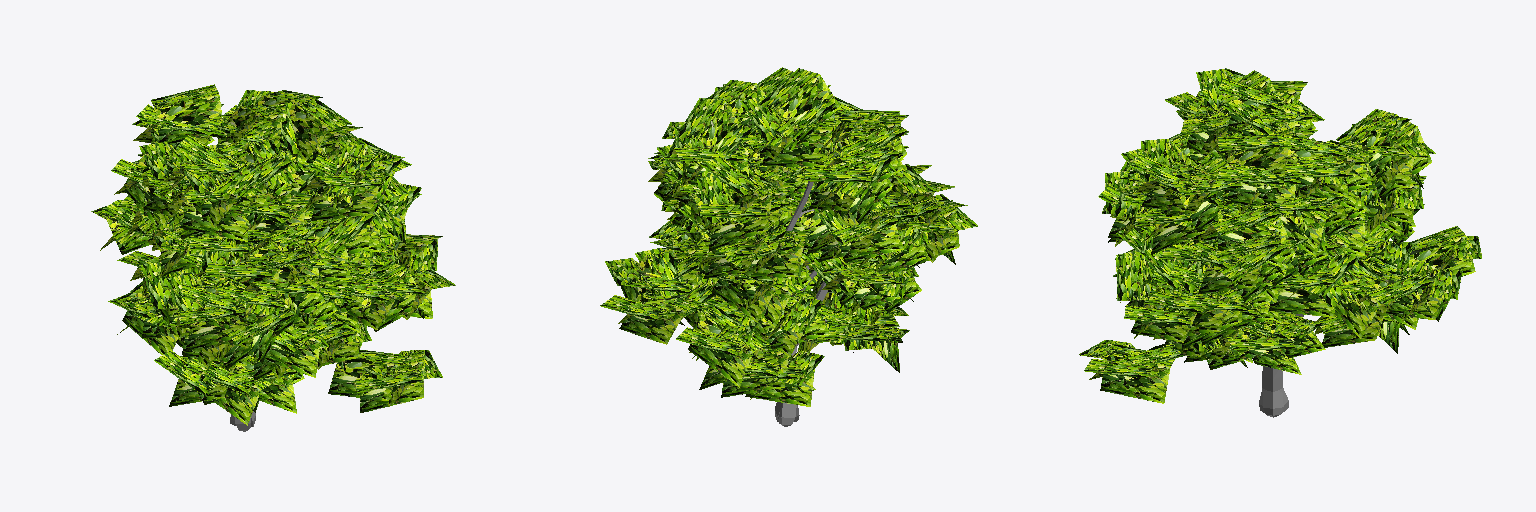
3 renders of one model, left to right at view 1: azimuth 30°, elevation 25°; view 2: azimuth 150°, elevation 25°; view 3: azimuth 270°, elevation 25°, orthographic.
Visible parts, largest first — view 1: Walnut_L; view 2: Walnut_L; view 3: Walnut_L.
Boxes of the visible parts, x1=… form: Walnut_L: x1=91, y1=84, x2=455, y2=431; Walnut_L: x1=600, y1=67, x2=977, y2=426; Walnut_L: x1=1079, y1=68, x2=1481, y2=417.
Size of the model in its own units: 12.66 by 14.07 by 15.48.
Materials: 2 (1 with a texture image).